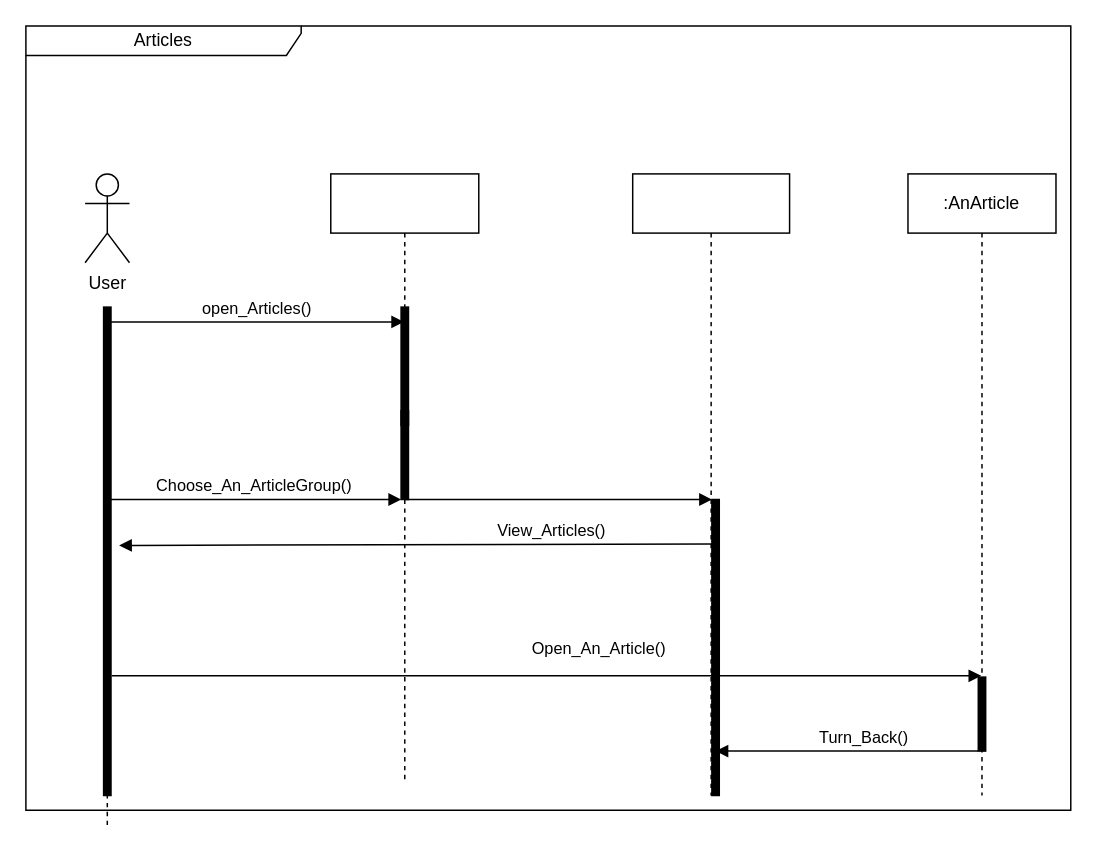
This 1097x852 diagram has some shape labels left out. The shapes that lost their labels are listed below. From the top down, each one's centre as x and y in pixels, then its label:
At point 404,476: ":Articles".
At point 710,484: ":Ergocenic Supporters (Article List)".
